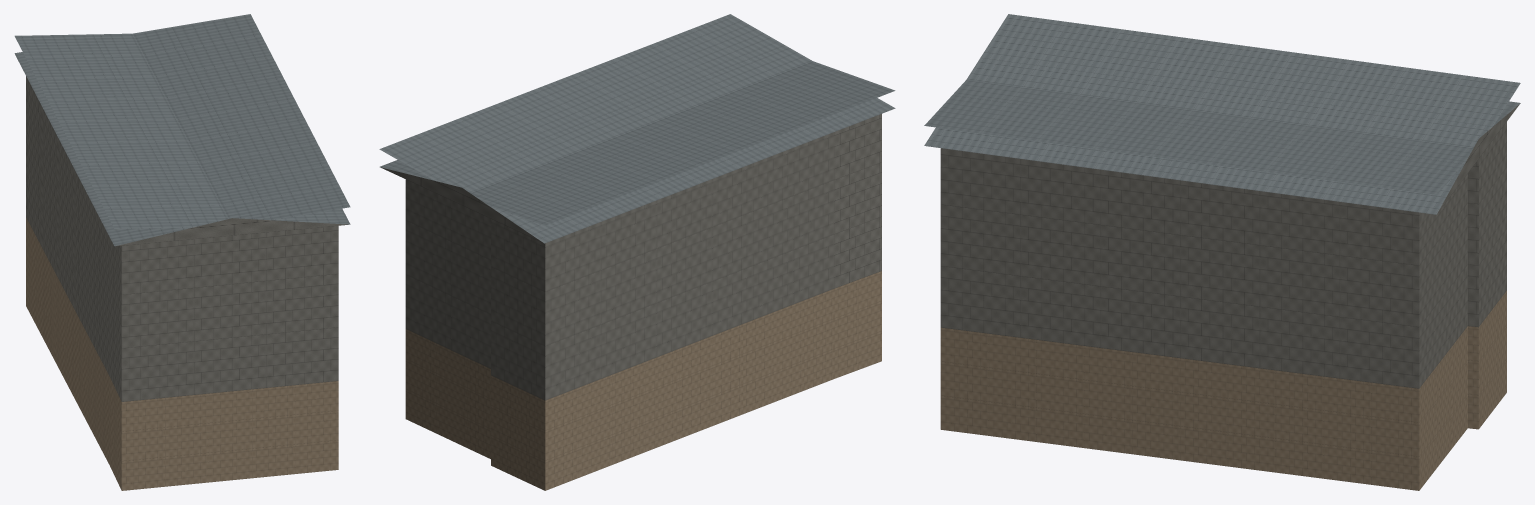
File: bld_c9_42_512.gltf
3 renders of one model, left to right at view 1: azimuth 30°, elevation 25°; view 2: azimuth 150°, elevation 25°; view 3: azimuth 270°, elevation 25°, orthographic. The views are drawn at different scales.
Parts seen in each view (by area): view 1: bld_c9_42_512; view 2: bld_c9_42_512; view 3: bld_c9_42_512.
Part boxes in pixels (x1,y1,x2,y2): bld_c9_42_512: [14, 14, 350, 490]; bld_c9_42_512: [379, 14, 895, 490]; bld_c9_42_512: [924, 14, 1520, 490].
Size of the model in its own units: 19.35 by 15.3 by 26.99.
Materials: 4 (4 with a texture image).
